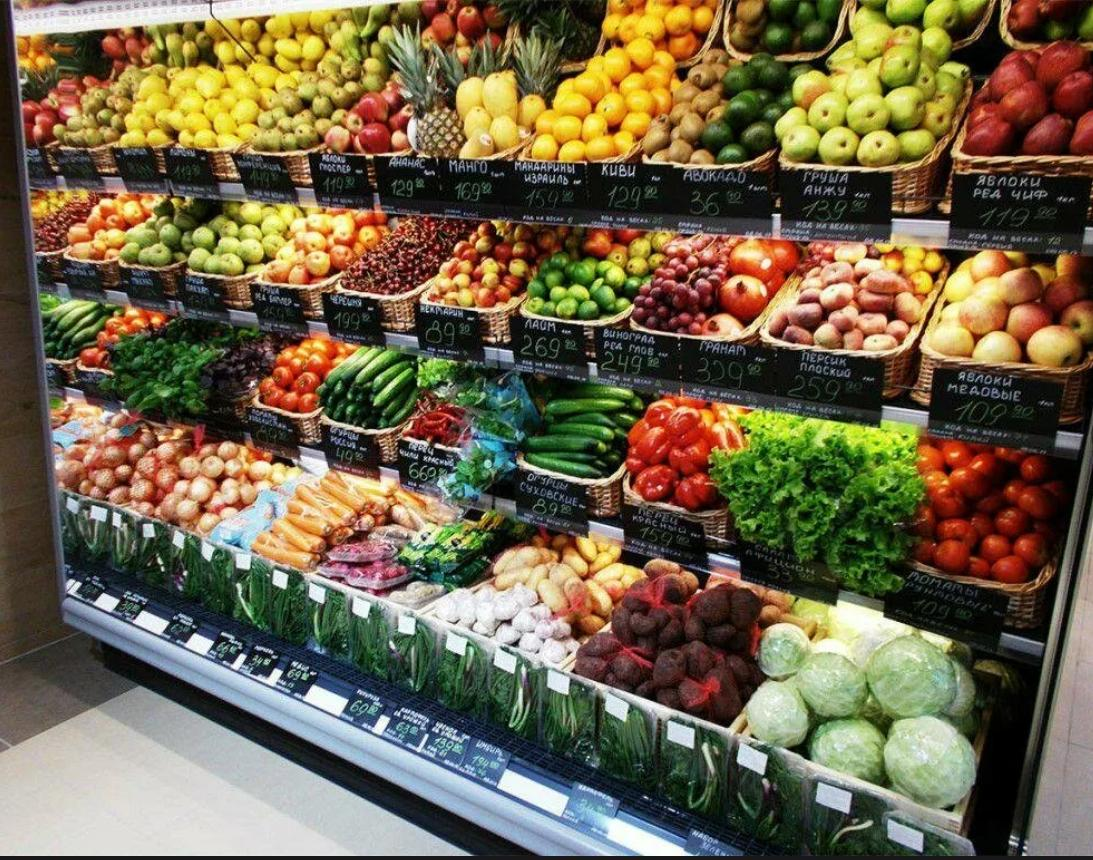carrot: (247, 481, 389, 574)
cucumber: (524, 380, 640, 485), (314, 348, 432, 430)
garlic: (409, 592, 583, 676)
grapes: (251, 35, 378, 163), (631, 233, 733, 342)
lemon: (172, 53, 292, 160)
mandarin: (522, 36, 664, 171)
onion: (143, 438, 279, 544)
pear: (780, 19, 968, 164), (262, 208, 384, 288), (186, 202, 296, 281)
pineapple: (400, 38, 468, 167), (511, 33, 570, 108)
pomegranate: (702, 231, 796, 344)
potato: (580, 556, 786, 724), (490, 533, 650, 636)
red apple: (927, 250, 1093, 368), (953, 44, 1093, 175), (319, 69, 417, 172)
sweet pepper: (625, 400, 748, 510)
tomato: (908, 433, 1081, 588), (256, 330, 344, 422)
